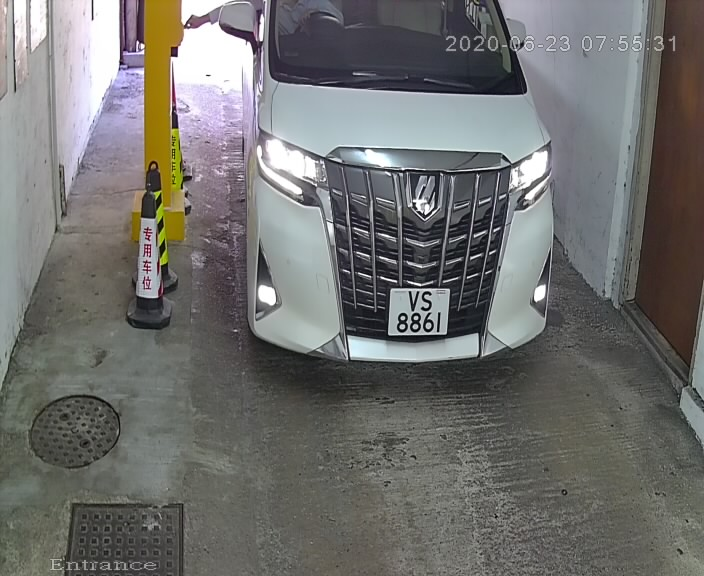privatecar: (207, 1, 573, 402)
